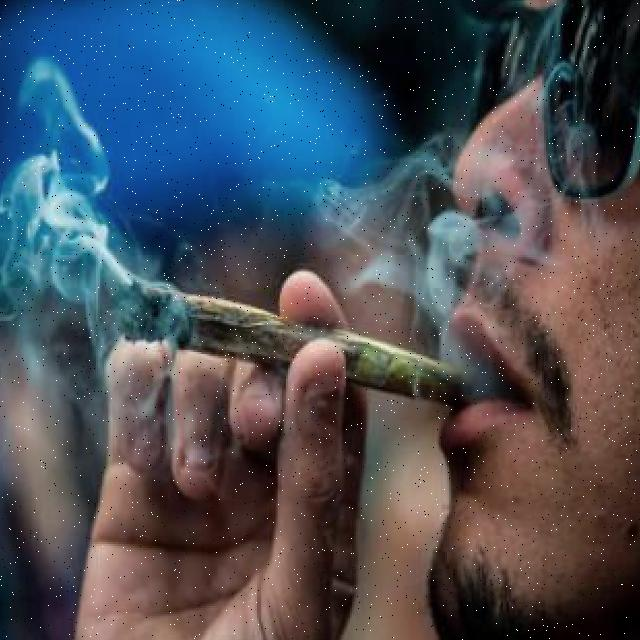smoke: (0, 57, 193, 478), (308, 138, 528, 426)
